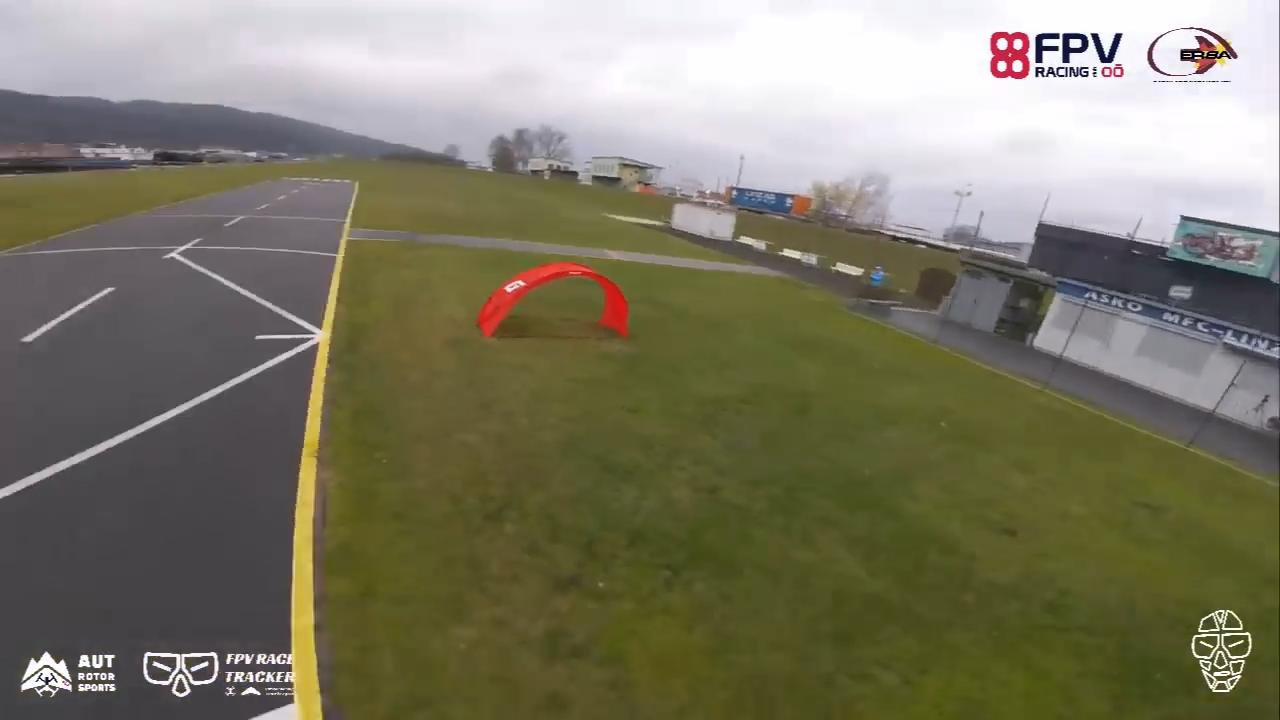gate: (477, 260, 637, 342)
